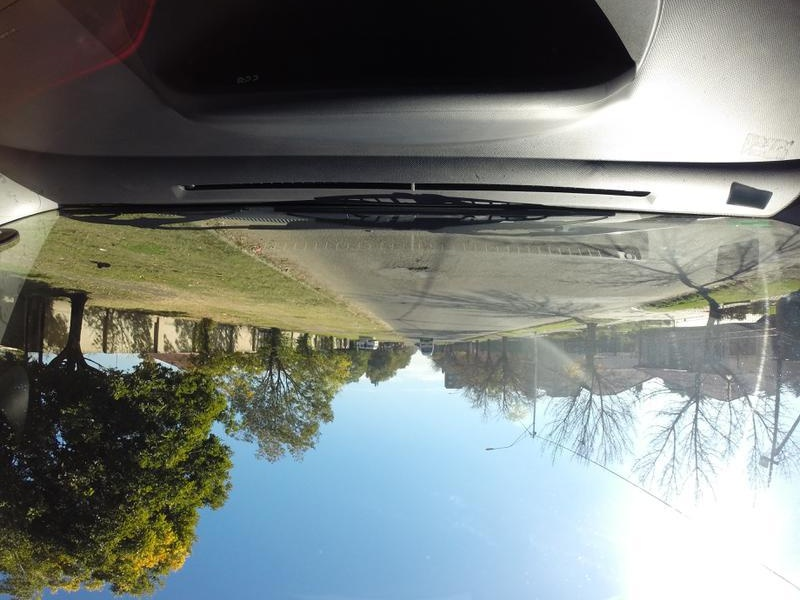pothole: (397, 263, 432, 271)
